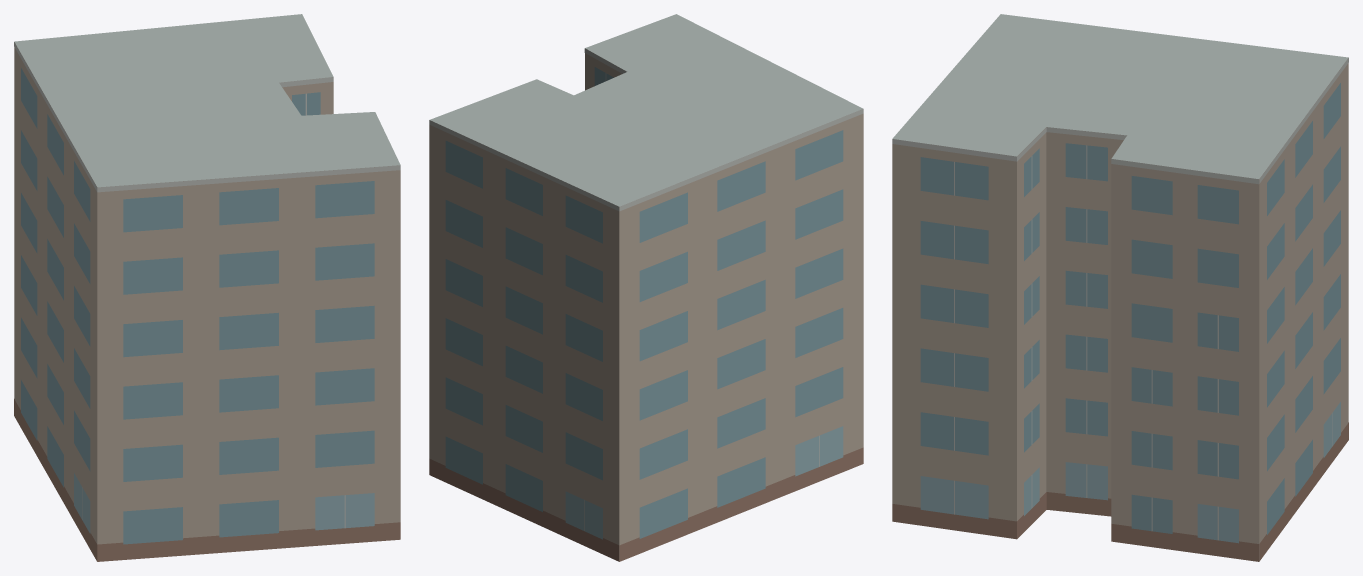
The model's file is survey-upis-33029159.glb.
The picture shows the model from 3 angles, left to right: view 1: azimuth 30°, elevation 25°; view 2: azimuth 150°, elevation 25°; view 3: azimuth 270°, elevation 25°; orthographic projection. The views are drawn at different scales.
Parts seen in each view (by area): view 1: survey-upis-33029159.tmp; view 2: survey-upis-33029159.tmp; view 3: survey-upis-33029159.tmp.
Part boxes in pixels (x1,y1,x2,y2): survey-upis-33029159.tmp: (14,14,400,561); survey-upis-33029159.tmp: (429,14,863,561); survey-upis-33029159.tmp: (892,14,1348,561).
Size of the model in its own units: 17.04 by 18.4 by 19.9.
